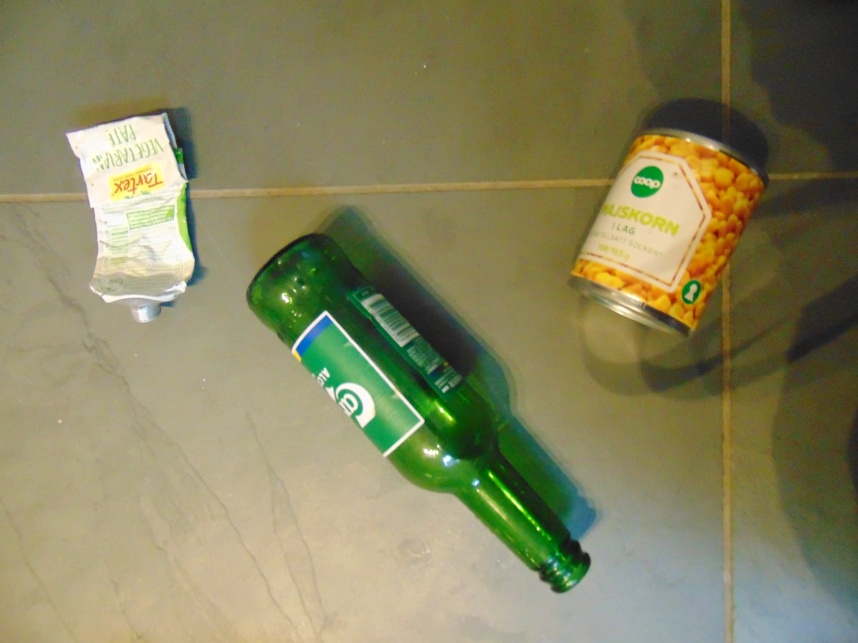glass_bottle: (245, 232, 593, 596)
metal: (65, 110, 196, 325)
metal_can: (568, 126, 770, 343)
